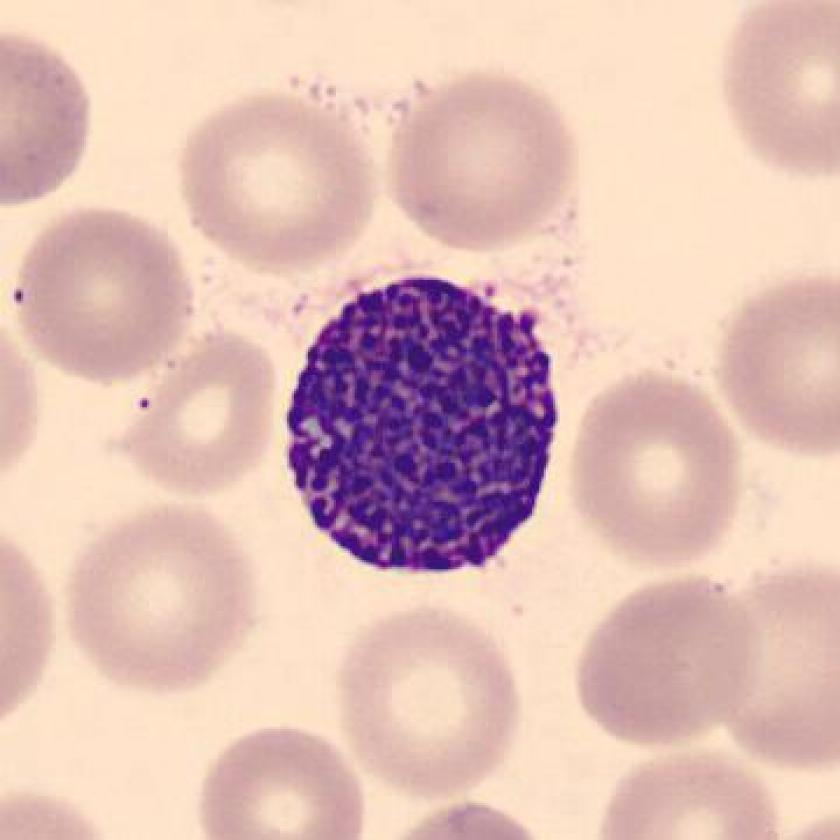basophil: (277, 265, 571, 591)
